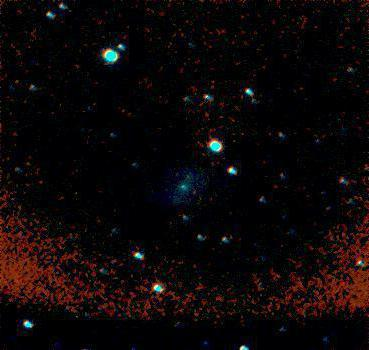star: (80, 90, 110, 120)
